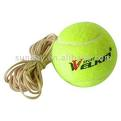tennis ball: (50, 21, 117, 88)
